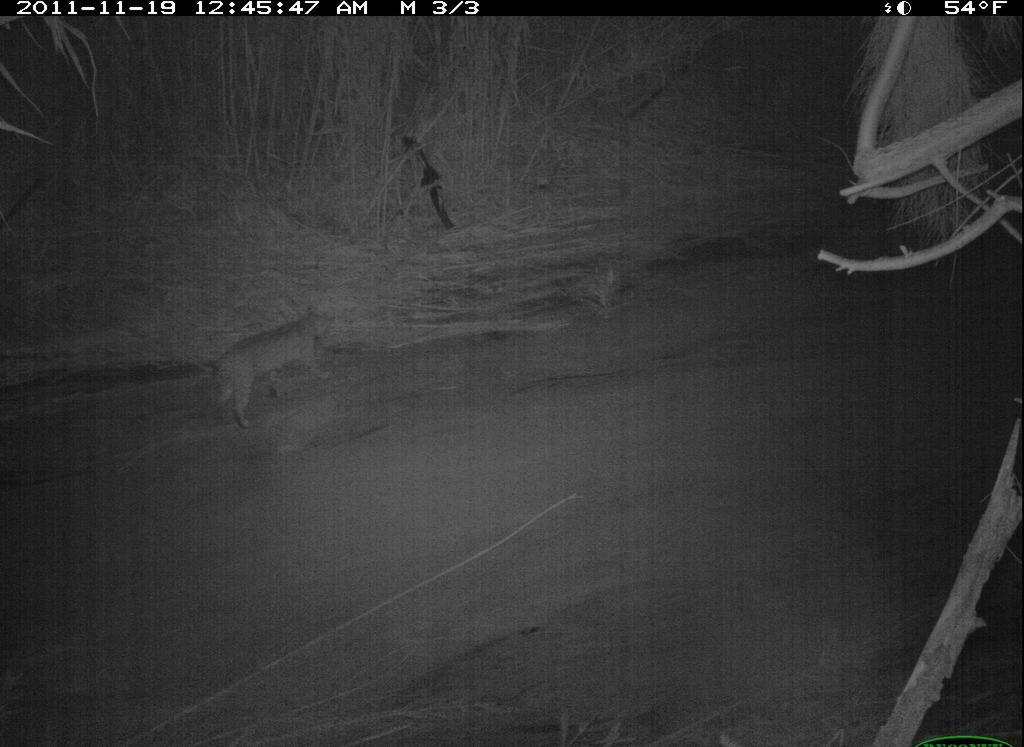bobcat: (207, 305, 340, 434)
